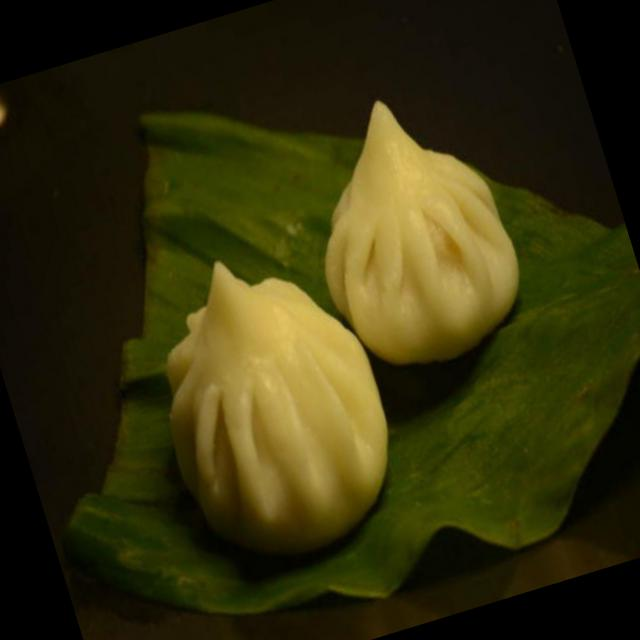modak: (118, 225, 419, 584), (277, 72, 534, 375)
